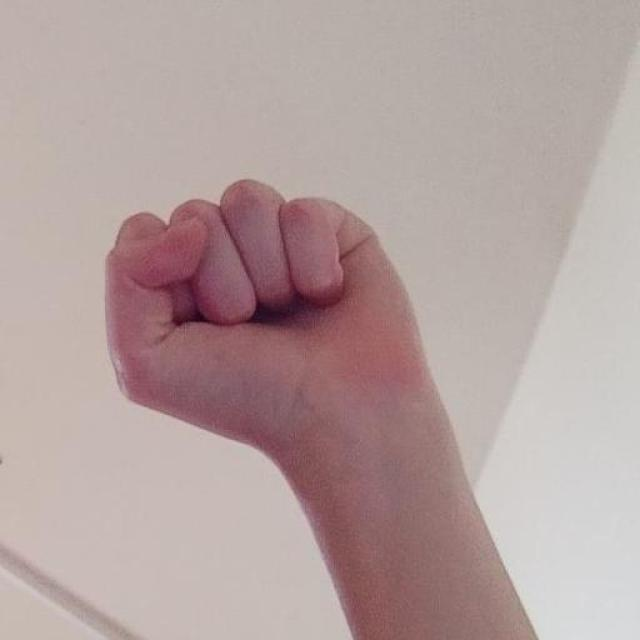hand: (103, 176, 455, 455)
